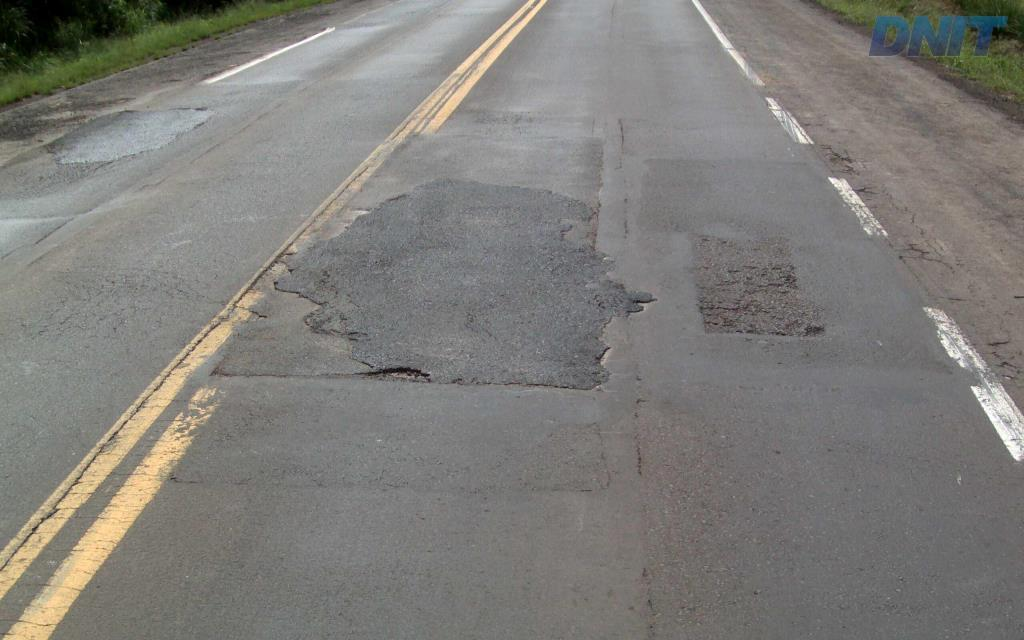crack: (698, 264, 799, 329), (351, 363, 432, 383)
pothole: (341, 358, 446, 388)
